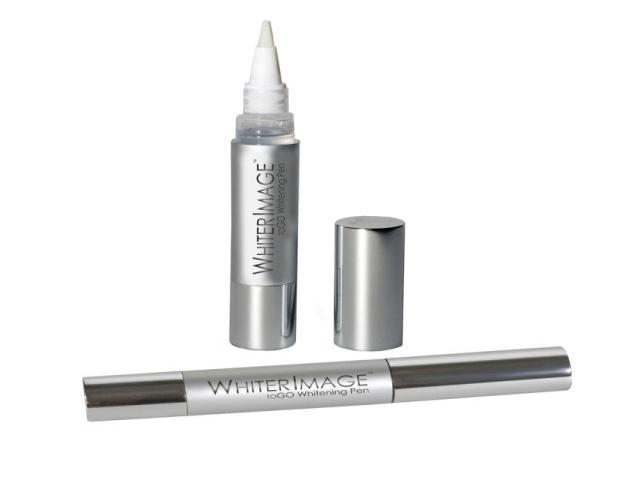PEN: (215, 14, 319, 356)
